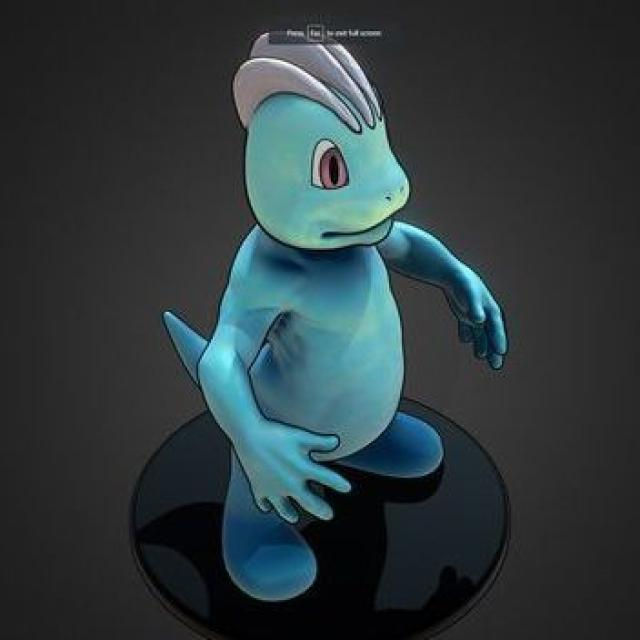Machop: (187, 42, 504, 600)
